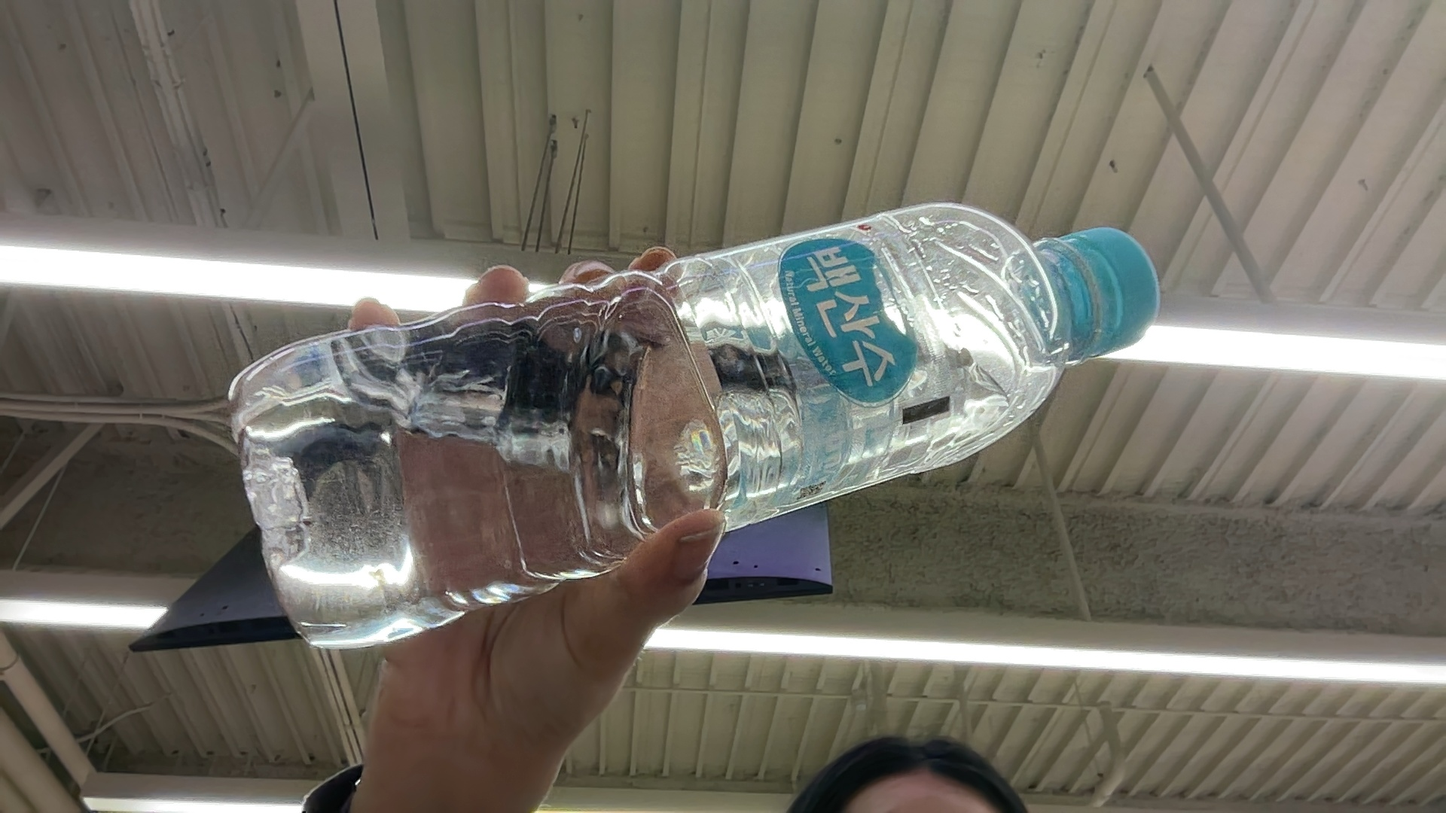Plastic: (6, 411, 238, 599)
